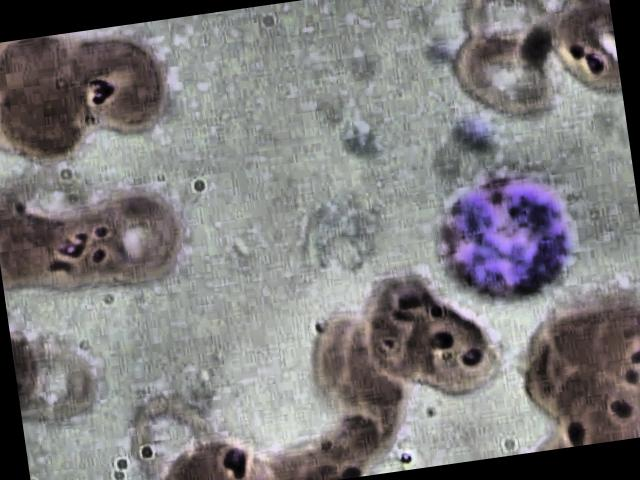Platelets: (448, 111, 496, 155)
RBC: (60, 23, 177, 142), (442, 19, 566, 130), (387, 292, 511, 402), (82, 170, 192, 290), (300, 302, 398, 402), (118, 384, 216, 480), (0, 66, 88, 165), (543, 362, 640, 447)
WBC: (428, 159, 586, 312)
